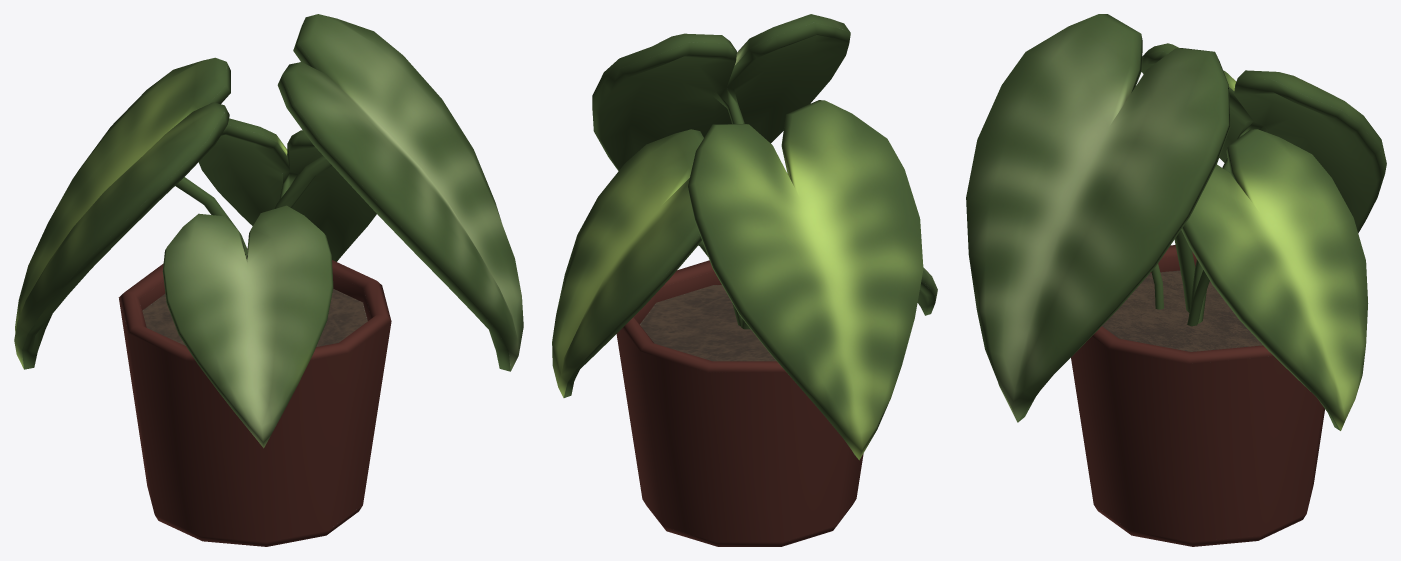
The model's file is Tree_D.obj.
The picture shows the model from 3 angles, left to right: view 1: azimuth 30°, elevation 25°; view 2: azimuth 150°, elevation 25°; view 3: azimuth 270°, elevation 25°; orthographic projection. The views are drawn at different scales.
Visible parts, largest first — view 1: Tree_D_LeavesSG, Tree_D_potSG; view 2: Tree_D_LeavesSG, Tree_D_potSG; view 3: Tree_D_LeavesSG, Tree_D_potSG.
Part boxes in pixels (x1,y1,x2,y2): Tree_D_LeavesSG: [14, 14, 523, 448]; Tree_D_potSG: [118, 248, 391, 546]; Tree_D_LeavesSG: [552, 14, 937, 460]; Tree_D_potSG: [616, 260, 863, 546]; Tree_D_LeavesSG: [966, 14, 1386, 430]; Tree_D_potSG: [1071, 245, 1324, 546].
Bounding box in the file's own units: 2.7 × 3.19 × 2.51.
2 materials, 2 textured.
